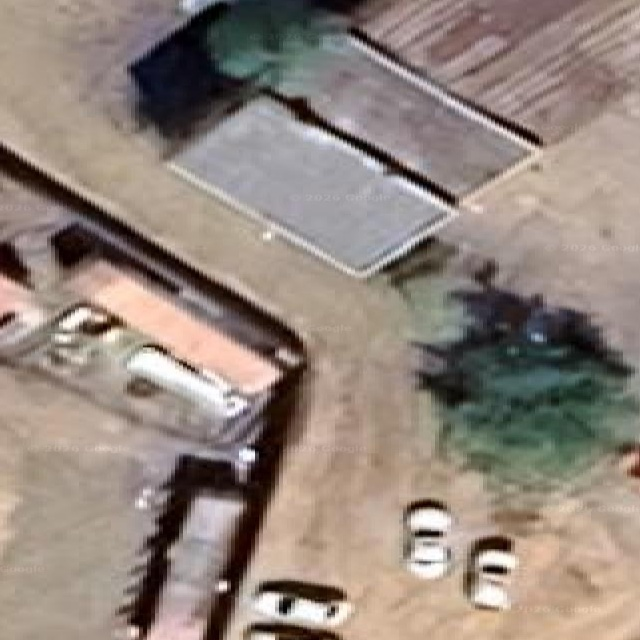car: (253, 581, 351, 627), (403, 500, 452, 579), (468, 536, 517, 609)
